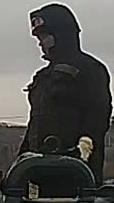gloves: (67, 132, 96, 165)
helmet: (27, 13, 51, 37)
vest: (23, 51, 112, 154)
